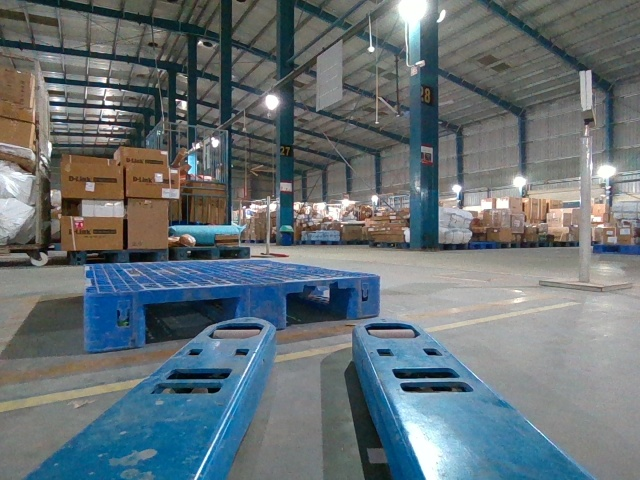block: (84, 291, 145, 349), (236, 281, 290, 326), (354, 275, 380, 319)
front: (86, 273, 381, 349)
hole pallet: (140, 294, 244, 348), (284, 284, 359, 326)
